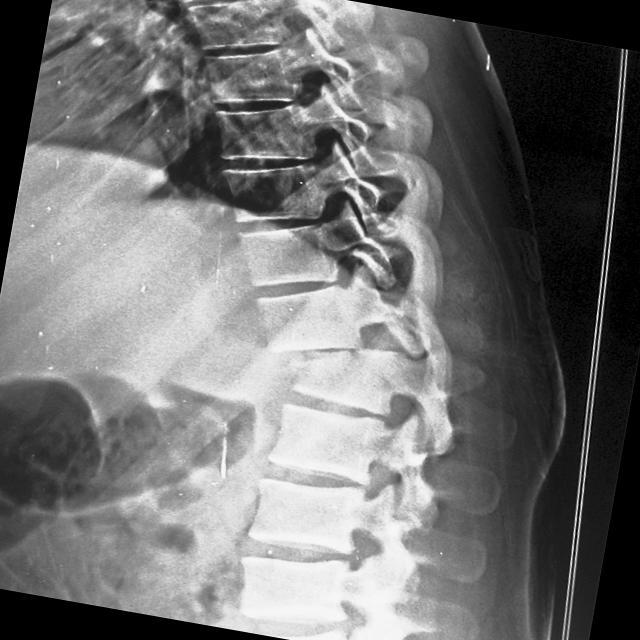Fracture Dislocation: (286, 344, 439, 417)
